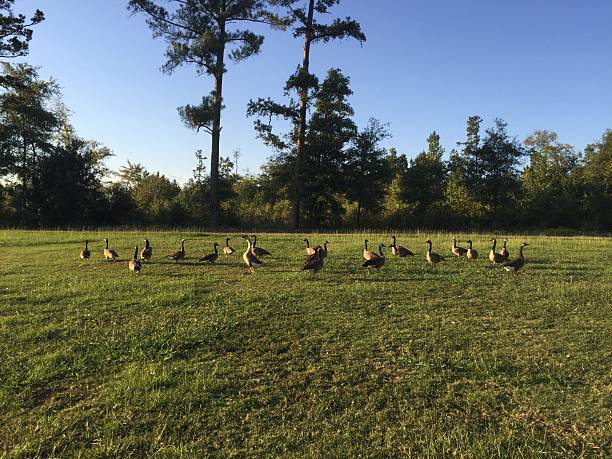goose: (238, 234, 264, 271), (504, 241, 531, 271), (362, 243, 386, 268), (304, 245, 324, 273), (389, 234, 411, 257), (250, 233, 271, 257), (424, 239, 445, 263), (199, 241, 220, 263), (167, 238, 186, 262), (488, 237, 504, 263), (102, 237, 119, 261), (128, 245, 142, 273), (450, 236, 466, 258), (464, 239, 480, 260), (79, 239, 93, 262), (140, 237, 153, 261), (362, 238, 376, 259), (222, 236, 235, 256), (500, 236, 510, 259), (301, 238, 314, 254), (323, 240, 331, 256)
